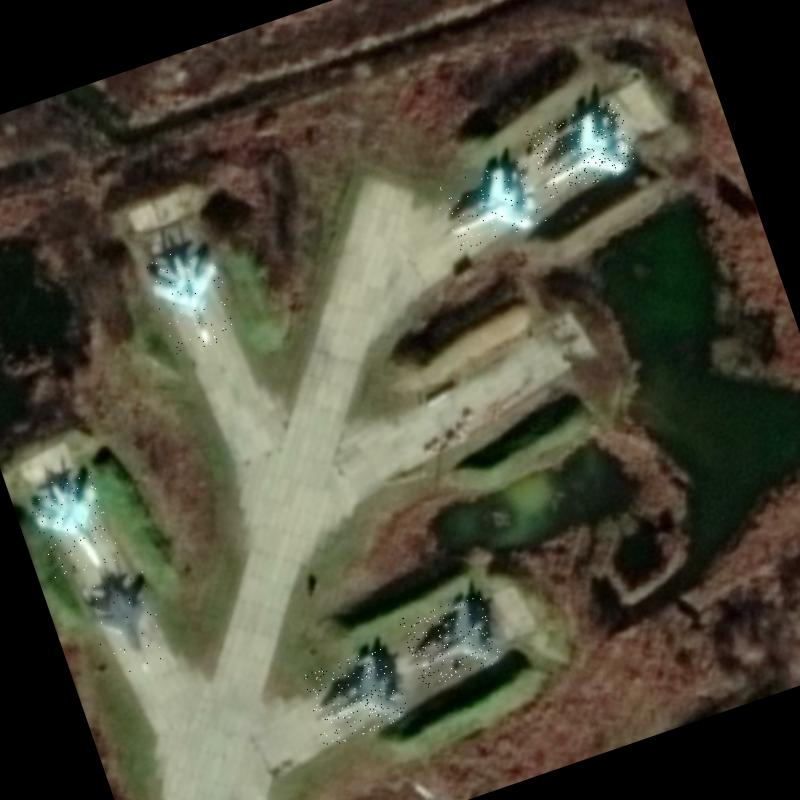A1: (525, 99, 640, 199), (431, 155, 548, 253), (300, 646, 412, 748), (79, 562, 174, 682), (25, 468, 122, 582), (398, 592, 504, 690)
A19: (144, 240, 242, 356)
